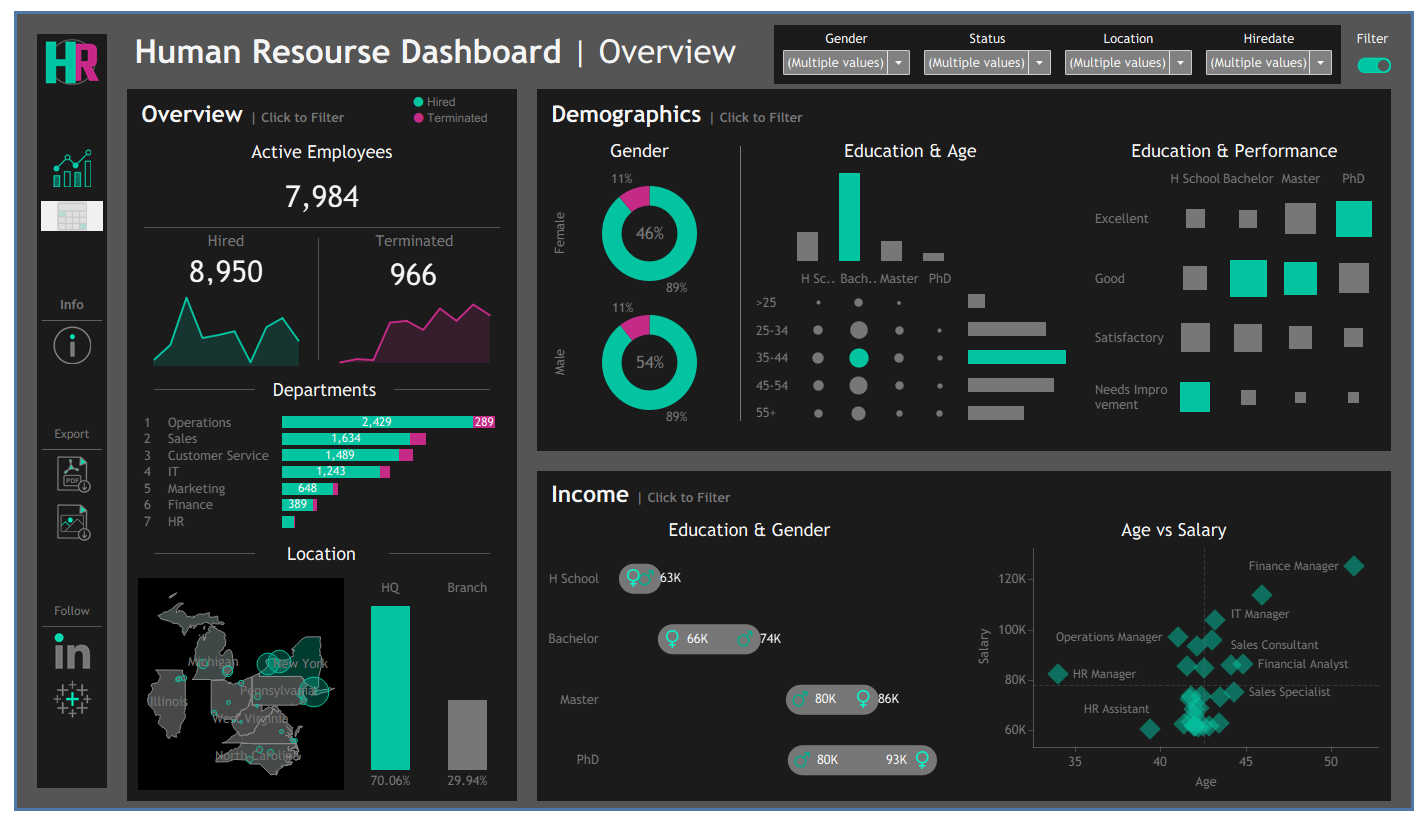

The dashboard page shown, as its layout file describes it:
{"tool":"tableau","page":{"name":"HR | Summary","canvas":[1400,800],"ordinal":1},"visuals":[{"type":"blank","box":[95,0,1301,266.7]},{"type":"text","box":[113,3,690,75]},{"type":"blank","box":[803,3,574,75]},{"type":"text","box":[1333,13,51,30]},{"type":"filter","title":"Gender vs Education Level","param":"[federated.0k6k6vg1wq4qcl1ell82u1hr0v49].[none:Gender:nk]","box":[762,16,141,55]},{"type":"filter","title":"Gender vs Education Level","param":"[federated.0k6k6vg1wq4qcl1ell82u1hr0v49].[none:Calculation_1084183573553152:nk]","box":[903,16,141,55]},{"type":"filter","title":"Gender vs Education Level","param":"[federated.0k6k6vg1wq4qcl1ell82u1hr0v49].[none:Calculation_0512706813087751:nk]","box":[1044,16,141,55]},{"type":"filter","title":"Gender vs Education Level","param":"[federated.0k6k6vg1wq4qcl1ell82u1hr0v49].[yr:Hiredate:ok]","box":[1185,16,140,55]},{"type":"image","param":"D:/DATA ANALYTICS/TABLEAU/Projects/Project -2 - HR Analytics Dataset/images/imag","box":[23,23,70,55]},{"type":"dashboard-object","box":[1343,33,34,43]},{"type":"blank","box":[23,78,70,60]},{"type":"text","box":[396,84,92,33]},{"type":"text","box":[120,85,376,35]},{"type":"text","box":[530,85,840,35]},{"type":"text","box":[120,120,376,35]},{"type":"text","box":[530,125,191,29]},{"type":"blank","box":[726,125,1,295]},{"type":"text","box":[732,125,329,29]},{"type":"text","box":[1071,125,299,29]},{"type":"dashboard-object","box":[23,138,70,38]},{"type":"worksheet","title":"Gender","mark":"Pie","rows":["Gender"],"cols":["Calculation_0512706819940361","Calculation_0512706819940361"],"box":[530,154,191,266]},{"type":"worksheet","title":"Education Levels","mark":"Bar","rows":["Calculation_0512706798272513"],"cols":["Education Level"],"box":[732,154,329,100]},{"type":"worksheet","title":"Education vs Performance","mark":"Square","rows":["Performance Rating"],"cols":["Education Level"],"box":[1071,154,299,266]},{"type":"worksheet","title":"BAN Active","mark":"Text","box":[120,155,376,61]},{"type":"blank","box":[23,176,70,10]},{"type":"dashboard-object","box":[23,186,70,38]},{"type":"blank","box":[120,216,376,1]},{"type":"text","box":[120,217,184,26]},{"type":"blank","box":[304,217,1,142]},{"type":"text","box":[305,217,191,26]},{"type":"blank","box":[23,224,70,60]},{"type":"worksheet","title":"BAN Hired","mark":"Text","box":[120,243,184,35]},{"type":"worksheet","title":"BAN Terminated","mark":"Text","box":[305,243,191,42]},{"type":"worksheet","title":"Age vs Education","mark":"Circle","rows":["Calculation_1149874073530369"],"cols":["Education Level"],"box":[732,254,218,166]},{"type":"worksheet","title":"Age Groups","mark":"Bar","rows":["Calculation_1149874073530369"],"cols":["Calculation_0512706798272513"],"box":[950,254,111,166]},{"type":"text","box":[95,266.7,1301,266.7]},{"type":"worksheet","title":"Hired By Year","mark":"Line","rows":["Calculation_0512706798272513","Calculation_0512706798272513"],"cols":["Hiredate"],"box":[120,278,184,81]},{"type":"text","box":[23,284,70,20]},{"type":"worksheet","title":"Terminated By Year","mark":"Line","rows":["Calculation_0512706798485506","Calculation_0512706798485506"],"cols":["Termdate"],"box":[305,285,191,74]},{"type":"blank","box":[23,304,70,11]},{"type":"dashboard-object","box":[23,315,70,38]},{"type":"blank","box":[23,353,70,60]},{"type":"blank","box":[130,364,121,30]},{"type":"text","box":[251,364,119,30]},{"type":"blank","box":[370,364,116,30]},{"type":"worksheet","title":"Department","mark":"Bar","rows":["Calculation_0512706812391430","Department"],"cols":["Calculation_0512706798272513"],"box":[120,399,376,124]},{"type":"text","box":[23,413,70,20]},{"type":"blank","box":[23,433,70,11]},{"type":"dashboard-object","box":[23,444,70,38]},{"type":"text","box":[530,467,840,32]},{"type":"blank","box":[23,482,70,10]},{"type":"dashboard-object","box":[23,492,70,38]},{"type":"text","box":[530,504,410.5,29]},{"type":"blank","box":[945.5,504,1,279]},{"type":"text","box":[951.5,504,418.5,29]},{"type":"blank","box":[130,528,121.3,30]},{"type":"text","box":[251.3,528,113.3,30]},{"type":"blank","box":[364.7,528,121.3,30]},{"type":"blank","box":[23,530,70,60]},{"type":"worksheet","title":"Gender vs Education Level","mark":"Line","rows":["Education Level"],"cols":["Salary","Salary"],"box":[530,533,410.5,250]},{"type":"worksheet","title":"Age vs Salary","mark":"Shape","rows":["Salary"],"cols":["Calculation_1149874072576000"],"box":[951.5,533,418.5,250]},{"type":"blank","box":[95,533.3,1301,266.7]},{"type":"worksheet","title":"Map Sates","mark":"Automatic","box":[120,563,213.7,220]},{"type":"worksheet","title":"Location","mark":"Bar","rows":["Calculation_0512706798272513"],"cols":["Calculation_0512706813087751"],"box":[333.7,563,162.3,220]},{"type":"text","box":[23,590,70,20]},{"type":"blank","box":[23,610,70,11]},{"type":"image","param":"D:/DATA ANALYTICS/TABLEAU/Projects/Project -2 - HR Analytics Dataset/images/imag","box":[23,621,70,38]},{"type":"blank","box":[23,659,70,10]},{"type":"image","param":"D:/DATA ANALYTICS/TABLEAU/Projects/Project -2 - HR Analytics Dataset/images/imag","box":[23,669,70,38]}]}

Visuals, with their boxes in screenshot pixels (x1, y1, x2, y2), scaled from the page's 1400x800 canvas onto the 1426x820 screenshot:
blank: BBox(97, 0, 1422, 273)
text: BBox(115, 3, 818, 80)
blank: BBox(818, 3, 1403, 80)
text: BBox(1358, 13, 1410, 44)
"Gender vs Education Level" filter: BBox(776, 16, 920, 73)
"Gender vs Education Level" filter: BBox(920, 16, 1063, 73)
"Gender vs Education Level" filter: BBox(1063, 16, 1207, 73)
"Gender vs Education Level" filter: BBox(1207, 16, 1350, 73)
image: BBox(23, 24, 95, 80)
dashboard-object: BBox(1368, 34, 1403, 78)
blank: BBox(23, 80, 95, 141)
text: BBox(403, 86, 497, 120)
text: BBox(122, 87, 505, 123)
text: BBox(540, 87, 1395, 123)
text: BBox(122, 123, 505, 159)
text: BBox(540, 128, 734, 158)
blank: BBox(739, 128, 741, 430)
text: BBox(746, 128, 1081, 158)
text: BBox(1091, 128, 1395, 158)
dashboard-object: BBox(23, 141, 95, 180)
"Gender" worksheet (Pie marks): BBox(540, 158, 734, 430)
"Education Levels" worksheet (Bar marks): BBox(746, 158, 1081, 260)
"Education vs Performance" worksheet (Square marks): BBox(1091, 158, 1395, 430)
"BAN Active" worksheet (Text marks): BBox(122, 159, 505, 221)
blank: BBox(23, 180, 95, 191)
dashboard-object: BBox(23, 191, 95, 230)
blank: BBox(122, 221, 505, 222)
text: BBox(122, 222, 310, 249)
blank: BBox(310, 222, 311, 368)
text: BBox(311, 222, 505, 249)
blank: BBox(23, 230, 95, 291)
"BAN Hired" worksheet (Text marks): BBox(122, 249, 310, 285)
"BAN Terminated" worksheet (Text marks): BBox(311, 249, 505, 292)
"Age vs Education" worksheet (Circle marks): BBox(746, 260, 968, 430)
"Age Groups" worksheet (Bar marks): BBox(968, 260, 1081, 430)
text: BBox(97, 273, 1422, 547)
"Hired By Year" worksheet (Line marks): BBox(122, 285, 310, 368)
text: BBox(23, 291, 95, 312)
"Terminated By Year" worksheet (Line marks): BBox(311, 292, 505, 368)
blank: BBox(23, 312, 95, 323)
dashboard-object: BBox(23, 323, 95, 362)
blank: BBox(23, 362, 95, 423)
blank: BBox(132, 373, 256, 404)
text: BBox(256, 373, 377, 404)
blank: BBox(377, 373, 495, 404)
"Department" worksheet (Bar marks): BBox(122, 409, 505, 536)
text: BBox(23, 423, 95, 444)
blank: BBox(23, 444, 95, 455)
dashboard-object: BBox(23, 455, 95, 494)
text: BBox(540, 479, 1395, 511)
blank: BBox(23, 494, 95, 504)
dashboard-object: BBox(23, 504, 95, 543)
text: BBox(540, 517, 958, 546)
blank: BBox(963, 517, 964, 803)
text: BBox(969, 517, 1395, 546)
blank: BBox(132, 541, 256, 572)
text: BBox(256, 541, 371, 572)
blank: BBox(371, 541, 495, 572)
blank: BBox(23, 543, 95, 605)
"Gender vs Education Level" worksheet (Line marks): BBox(540, 546, 958, 803)
"Age vs Salary" worksheet (Shape marks): BBox(969, 546, 1395, 803)
blank: BBox(97, 547, 1422, 819)
"Map Sates" worksheet: BBox(122, 577, 340, 803)
"Location" worksheet (Bar marks): BBox(340, 577, 505, 803)
text: BBox(23, 605, 95, 625)
blank: BBox(23, 625, 95, 637)
image: BBox(23, 637, 95, 675)
blank: BBox(23, 675, 95, 686)
image: BBox(23, 686, 95, 725)
